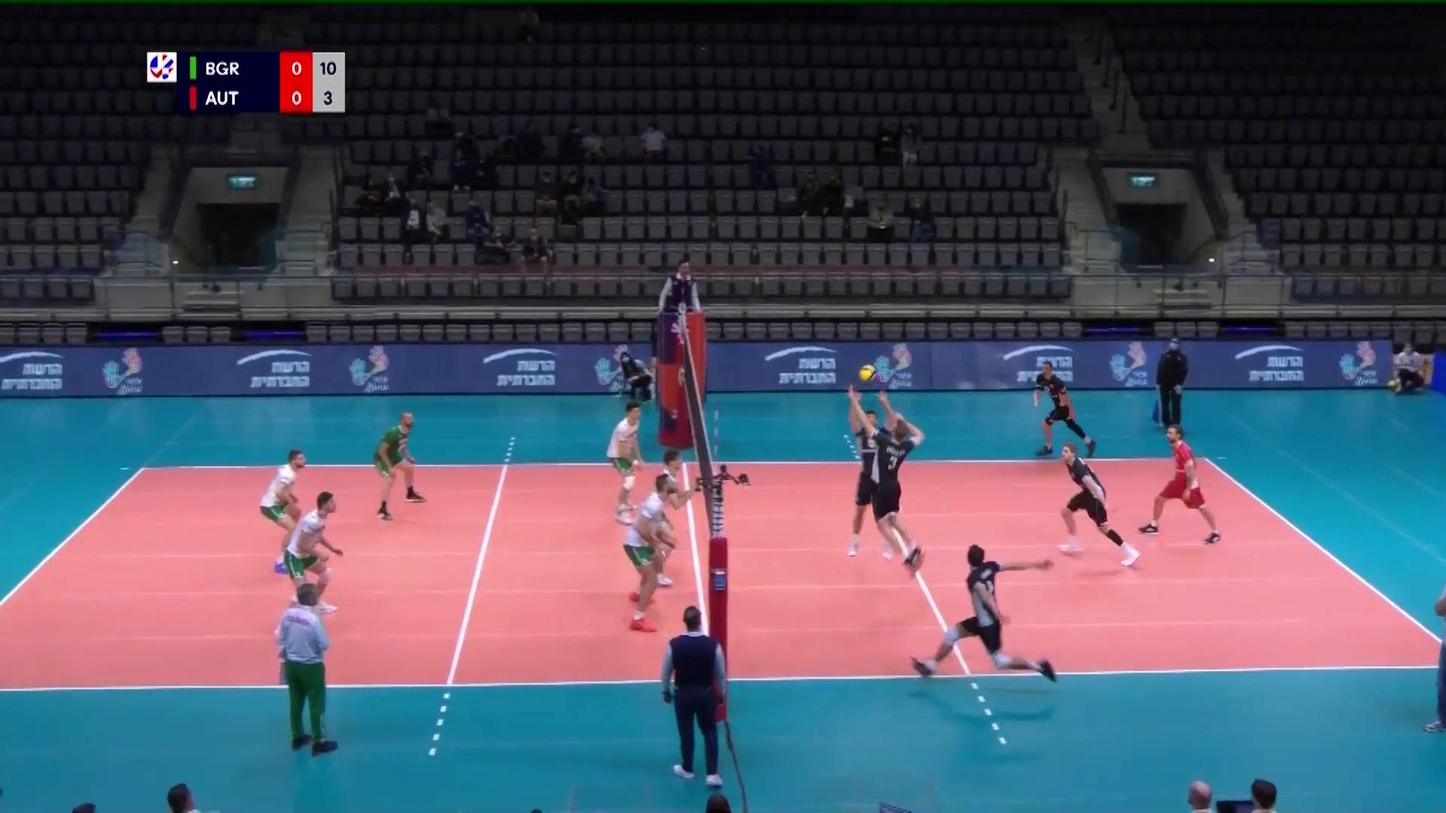ball: (859, 365, 879, 384)
